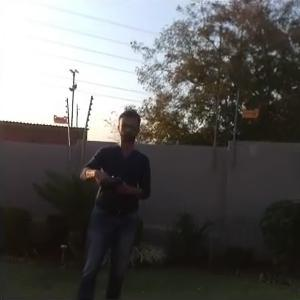follow: (71, 101, 153, 298)
